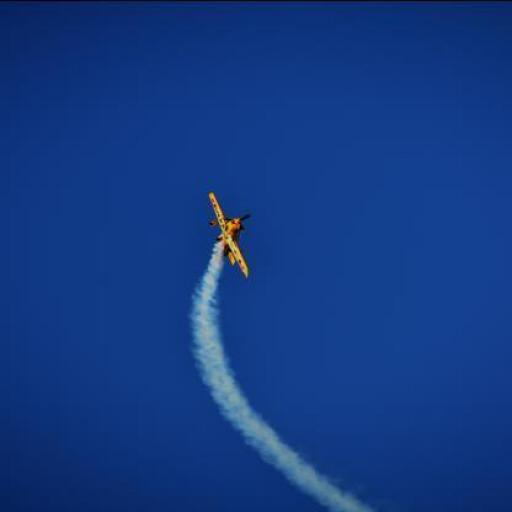aircraft: (206, 192, 252, 280)
